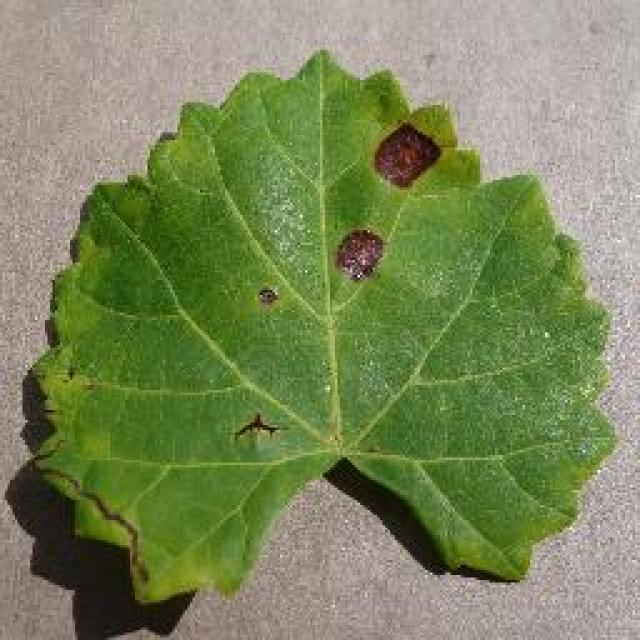Grape___Black_rot: (21, 44, 622, 614)
